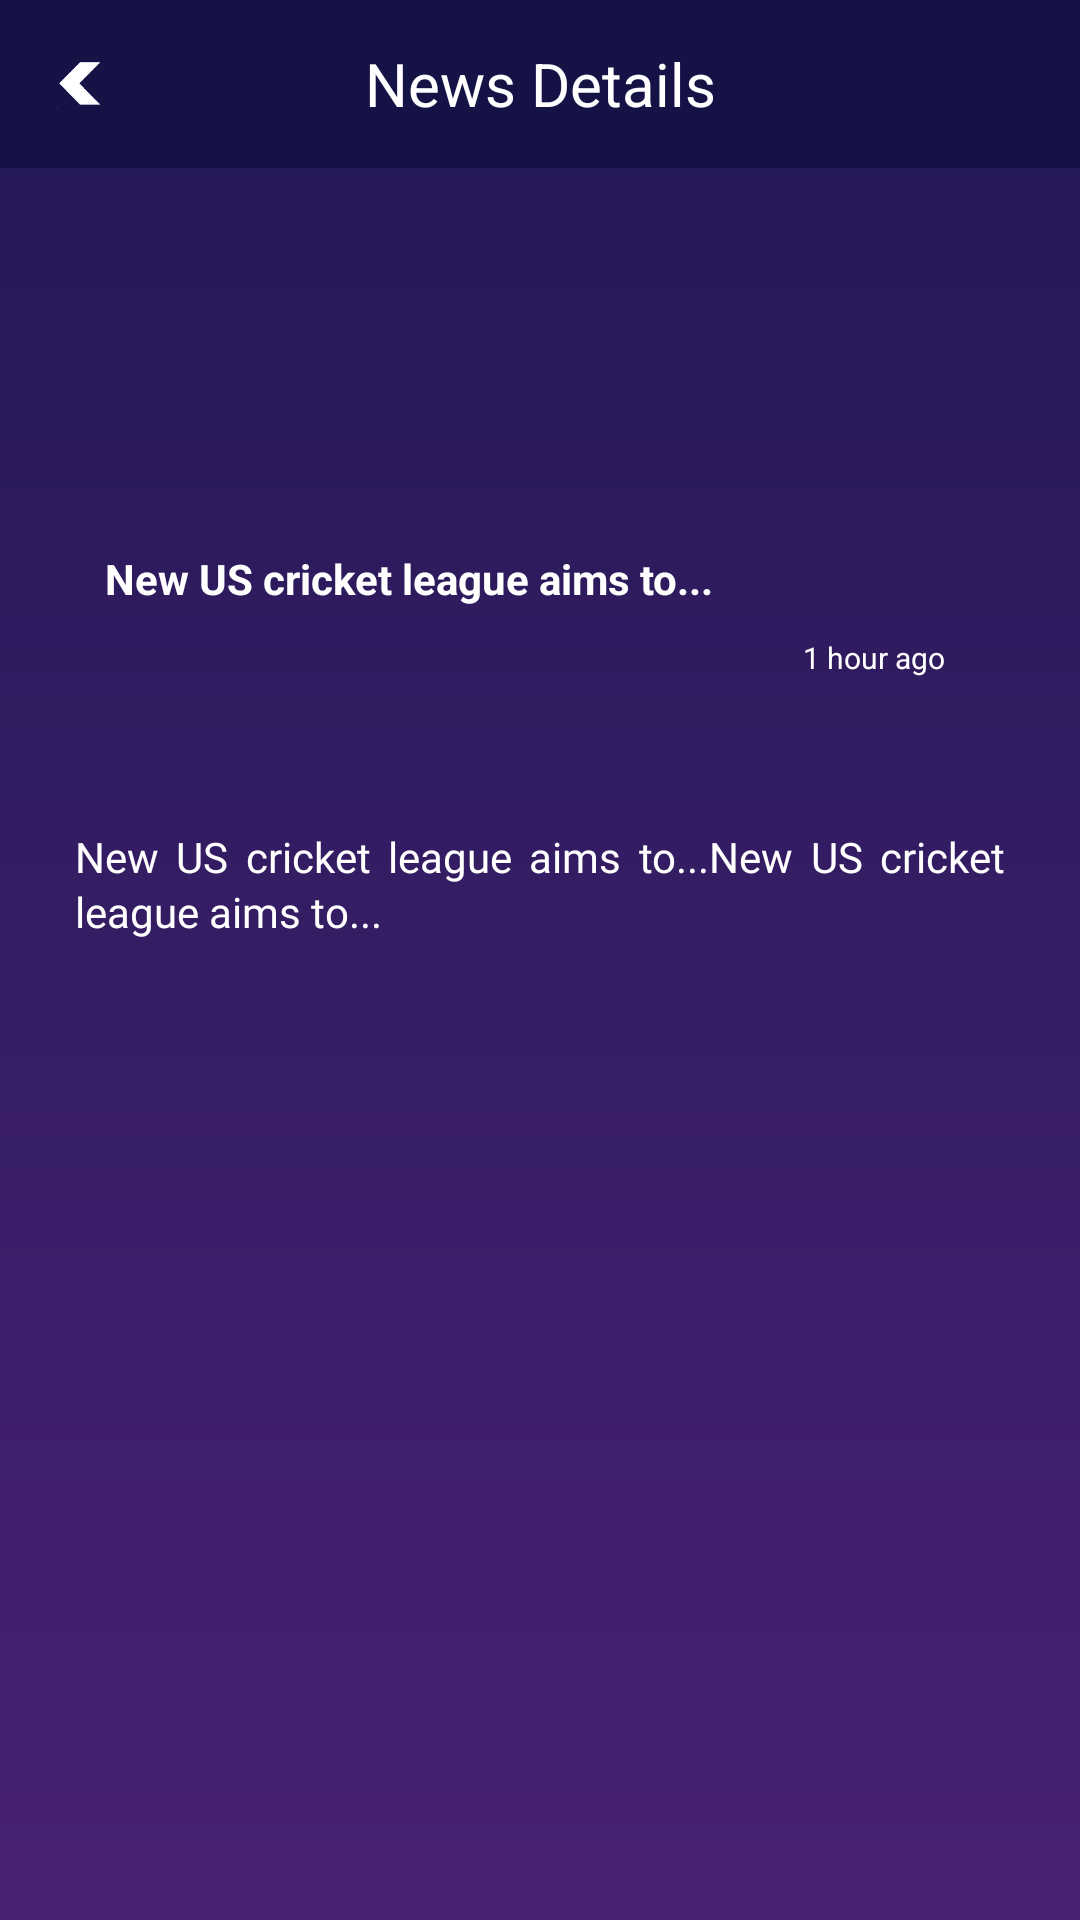

Icon bounding boxes for this 1080x1920 phone screenshot, format (x1, y1, x2, y2):
left: (59, 62, 100, 105)
